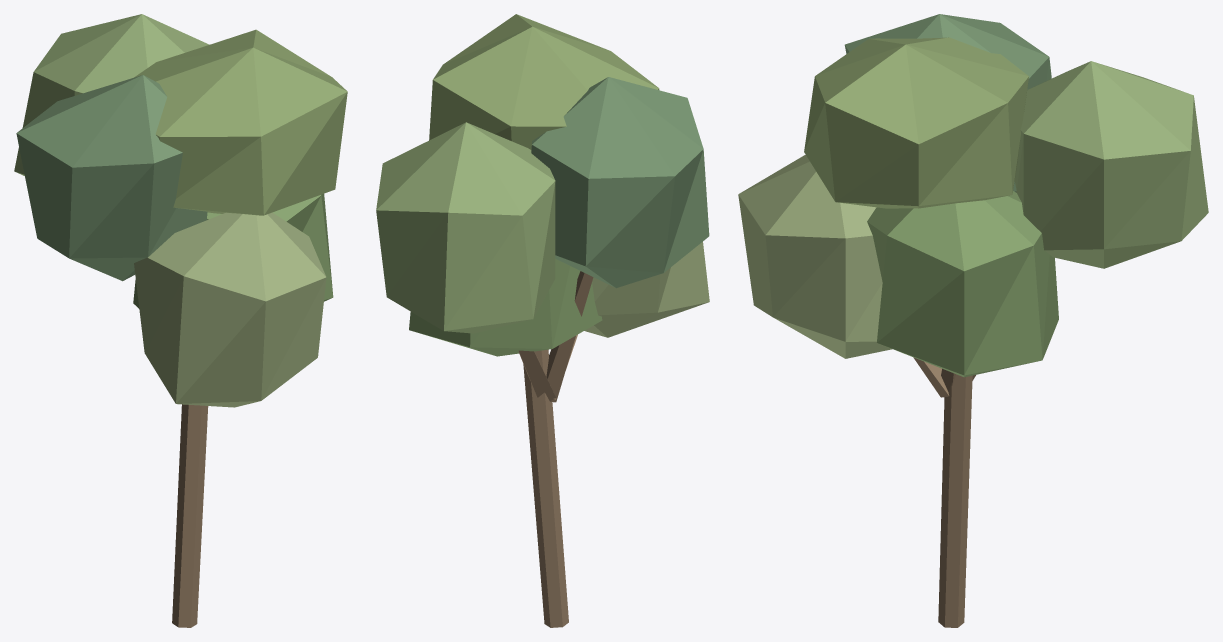
The picture shows the model from 3 angles, left to right: view 1: azimuth 30°, elevation 25°; view 2: azimuth 150°, elevation 25°; view 3: azimuth 270°, elevation 25°; orthographic projection. The views are drawn at different scales.
Bounding box in the file's own units: 2.65 × 5.11 × 3.62.
